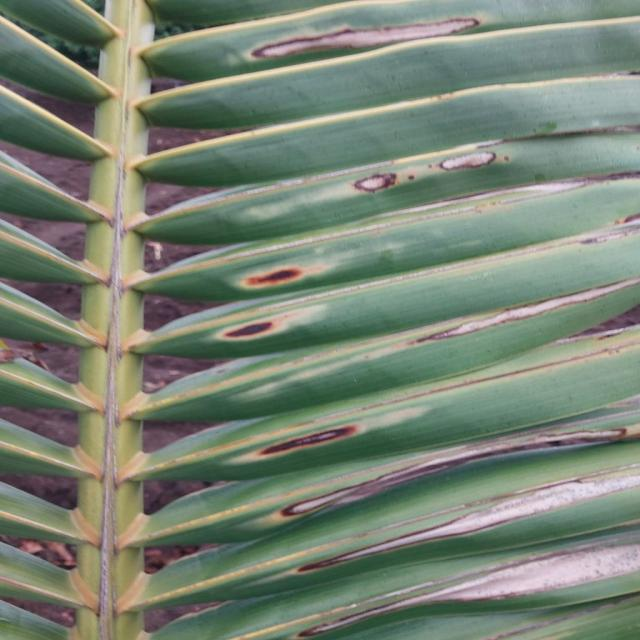gray leaf spot: (261, 408, 639, 640), (416, 254, 629, 356), (260, 10, 491, 74), (228, 247, 324, 358), (349, 139, 491, 196)
